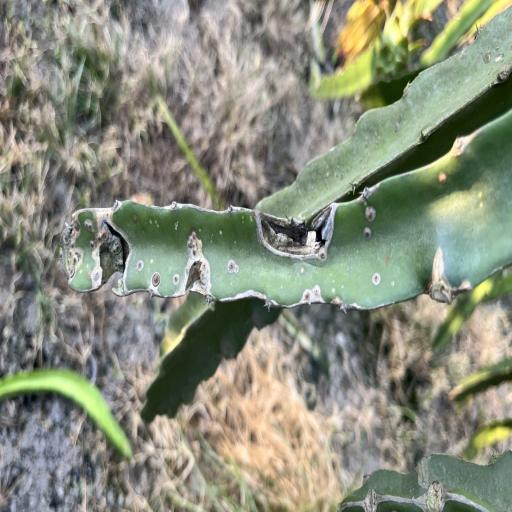stemcanker: (140, 217, 164, 238), (328, 270, 348, 294), (210, 226, 226, 246), (476, 183, 486, 215), (238, 214, 254, 228), (382, 254, 395, 270), (355, 248, 365, 260), (313, 286, 322, 298), (233, 236, 241, 248), (130, 216, 139, 226), (298, 268, 307, 278), (149, 257, 155, 271), (390, 276, 396, 290), (324, 170, 332, 180), (85, 262, 91, 272), (79, 266, 84, 277), (198, 226, 204, 234)
